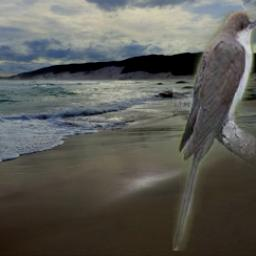Cuckoo: (172, 12, 256, 252)
